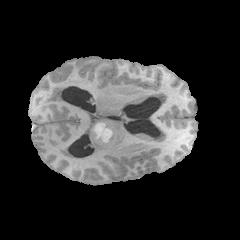glioma: (87, 119, 121, 150)
